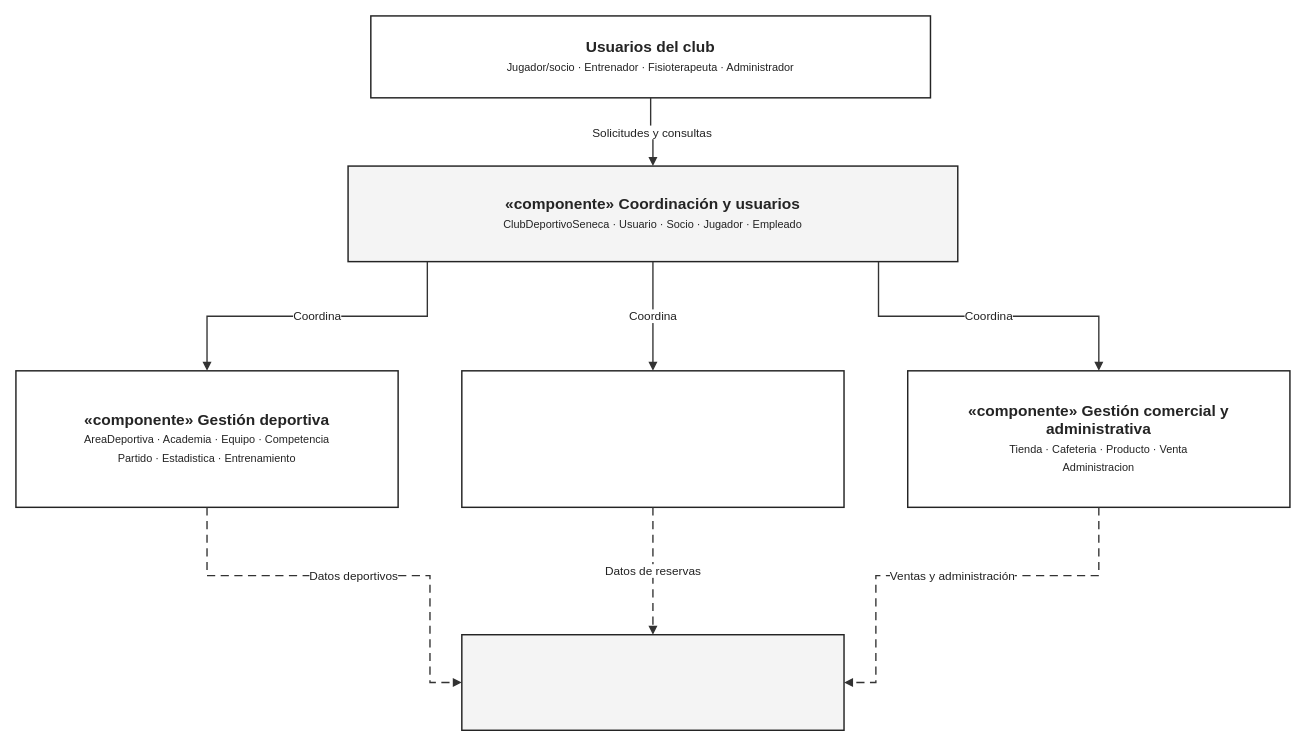
The diagram is 1307 pixels wide and 747 high, and some of its shapes have lost their labels. The shapes that lost their labels are listed below. From the top down, each one's box as (x1, y1, x2, y2) in pixels, then its label:
(461, 370, 844, 508): «componente» Reservas e instalaciones GestionReservas · Instalacion · Reserva
(461, 634, 844, 731): «componente» Persistencia Servicio de lectura y escritura de archivos
